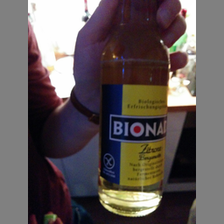soda: (100, 1, 171, 218)
